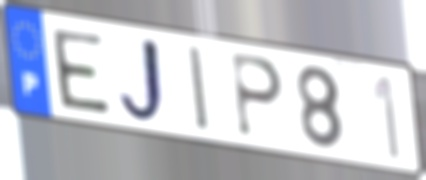1: (371, 72, 403, 164)
8: (293, 64, 346, 152)
E: (48, 26, 114, 118)
I: (185, 42, 213, 136)
J: (116, 33, 172, 129)
P: (229, 49, 286, 143)
